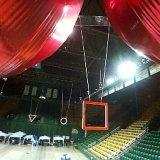Orange_Square_GShape: (82, 100, 108, 130)
Purple_Balloon: (60, 152, 70, 160)
Yellow_Circle_GShape: (60, 118, 68, 126)
Yellow_Triangle_Gshape: (28, 114, 38, 123)
